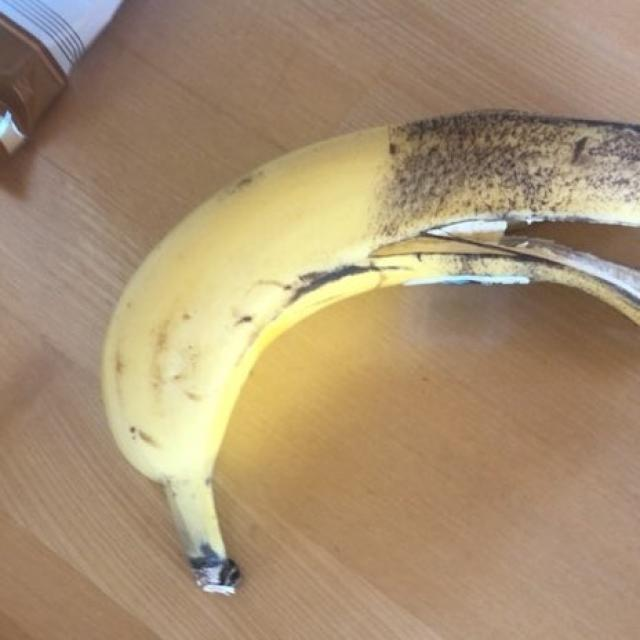banana: (111, 112, 631, 581)
